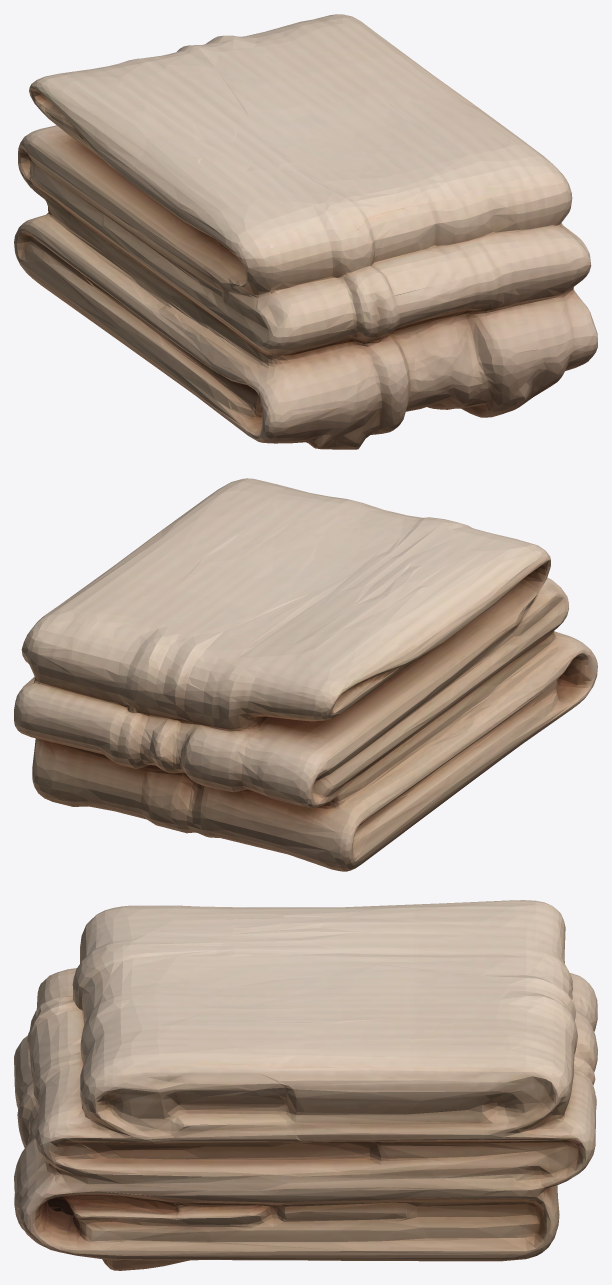
3 renders of one model, top to bottom at view 1: azimuth 30°, elevation 25°; view 2: azimuth 150°, elevation 25°; view 3: azimuth 270°, elevation 25°, orthographic. The views are drawn at different scales.
Visible parts, largest first — view 1: geometry_0; view 2: geometry_0; view 3: geometry_0.
Boxes of the visible parts, x1,y1,x2,y2 form: geometry_0: [14, 14, 597, 449]; geometry_0: [14, 478, 597, 871]; geometry_0: [14, 900, 597, 1270].
Bounding box in the file's own units: 0.7069 × 0.476 × 0.9984.
Materials: 1 (1 with a texture image).
